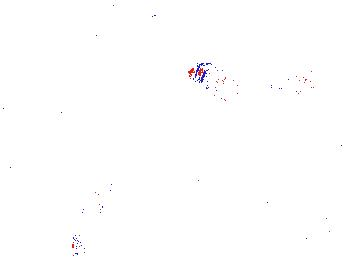X-ray fish: (185, 61, 248, 105)
glassfish: (182, 135, 273, 199), (70, 161, 125, 251)
red belly glassfish: (300, 68, 344, 86), (266, 77, 315, 93)
